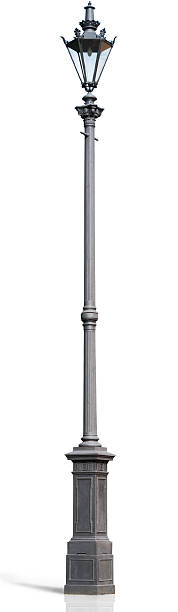light_pole: (65, 106, 116, 600)
